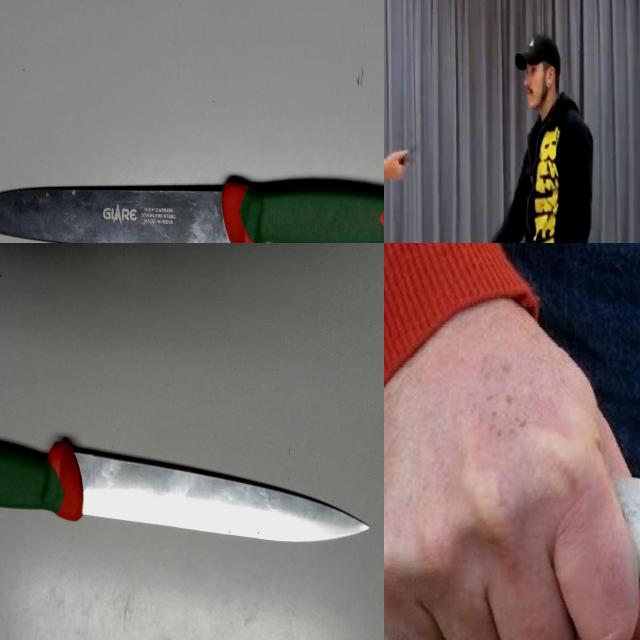Knife: (0, 440, 369, 542), (0, 179, 384, 243)
Knife_Handle: (384, 330, 640, 640), (387, 145, 418, 181)
